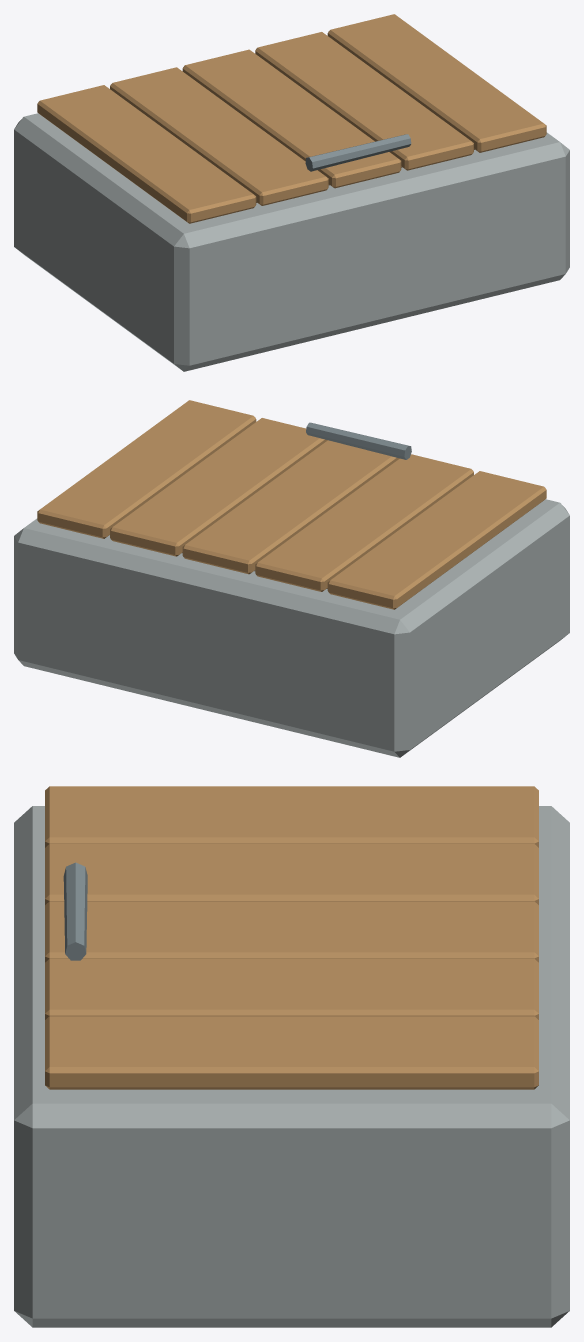
Rendered from CC_FoodStore.fbx.
3 renders of one model, top to bottom at view 1: azimuth 30°, elevation 25°; view 2: azimuth 150°, elevation 25°; view 3: azimuth 270°, elevation 25°, orthographic. The views are drawn at different scales.
Visible parts, largest first — view 1: Cellar walls, Lid plank, Lid plank.004, Lid plank.001, Lid plank.003, Lid plank.002, Lid handle; view 2: Cellar walls, Lid plank, Lid plank.004, Lid plank.001, Lid plank.003, Lid plank.002, Lid handle; view 3: Cellar walls, Lid plank.004, Lid plank.003, Lid plank, Lid plank.001, Lid plank.002, Lid handle.
Boxes of the visible parts, <box> form: Cellar walls: <box>14,113,569,371</box>; Lid plank: <box>37,85,256,223</box>; Lid plank.004: <box>327,14,546,152</box>; Lid plank.001: <box>110,67,328,205</box>; Lid plank.003: <box>255,32,473,170</box>; Lid plank.002: <box>182,49,401,188</box>; Lid handle: <box>305,134,411,171</box>; Cellar walls: <box>14,499,569,757</box>; Lid plank: <box>327,471,546,609</box>; Lid plank.004: <box>37,400,256,538</box>; Lid plank.001: <box>255,454,473,591</box>; Lid plank.003: <box>110,418,327,556</box>; Lid plank.002: <box>182,440,399,574</box>; Lid handle: <box>306,422,411,459</box>; Cellar walls: <box>14,806,569,1327</box>; Lid plank.004: <box>45,1016,538,1089</box>; Lid plank.003: <box>45,958,538,1019</box>; Lid plank: <box>45,786,538,847</box>; Lid plank.001: <box>45,844,538,904</box>; Lid plank.002: <box>45,901,538,962</box>; Lid handle: <box>63,862,87,960</box>.
Bounding box in the file's own units: 2.4 × 0.99 × 1.8.
